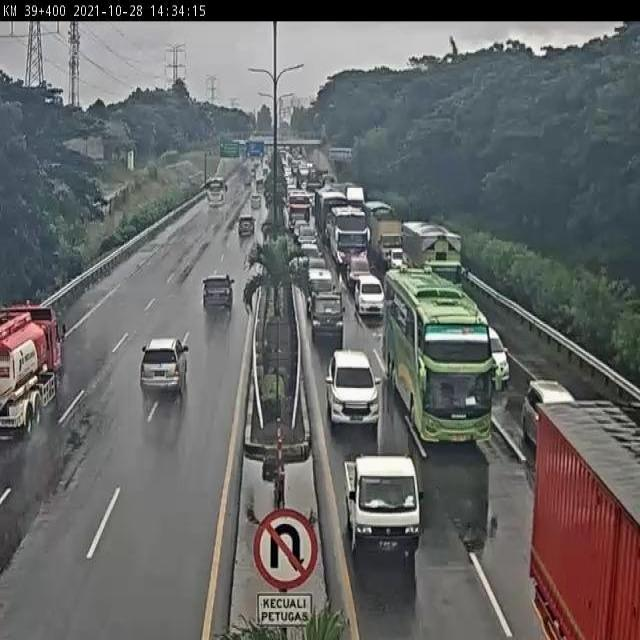Bus: (384, 269, 492, 442), (207, 175, 227, 208)
Car: (343, 452, 423, 568), (325, 348, 380, 428), (138, 337, 188, 396), (308, 288, 344, 345), (353, 274, 385, 318), (202, 272, 236, 312), (237, 214, 255, 237), (250, 193, 262, 210)
Truck: (529, 398, 640, 640), (0, 303, 68, 433), (321, 192, 371, 268)
